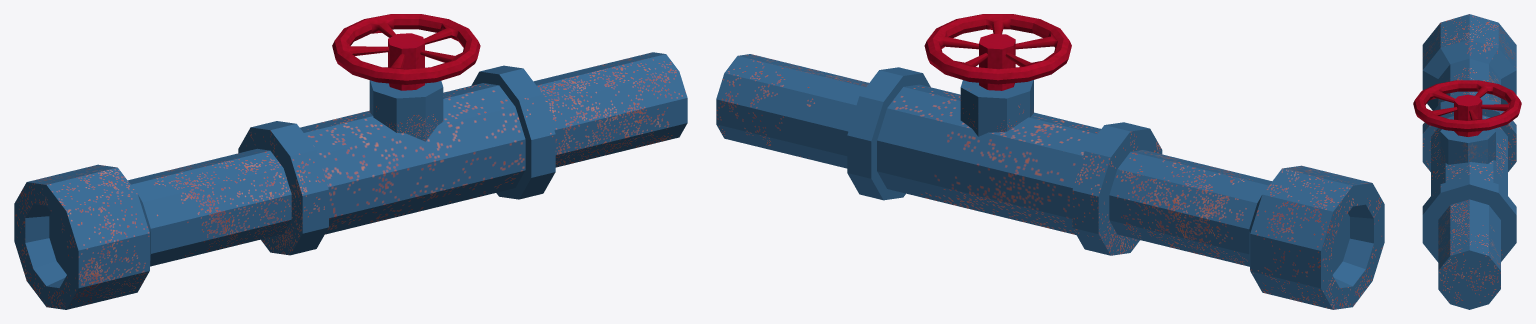
The model's file is wheel pipe.fbx.
3 renders of one model, left to right at view 1: azimuth 30°, elevation 25°; view 2: azimuth 150°, elevation 25°; view 3: azimuth 270°, elevation 25°, orthographic. The views are drawn at different scales.
Visible parts, largest first — view 1: pCylinder4; view 2: pCylinder4; view 3: pCylinder4.
Boxes of the visible parts, <box> form: pCylinder4: <box>14,14,687,309</box>; pCylinder4: <box>716,14,1384,309</box>; pCylinder4: <box>1413,14,1521,309</box>.
Bounding box in the file's own units: 8.66 × 2.39 × 1.8.
